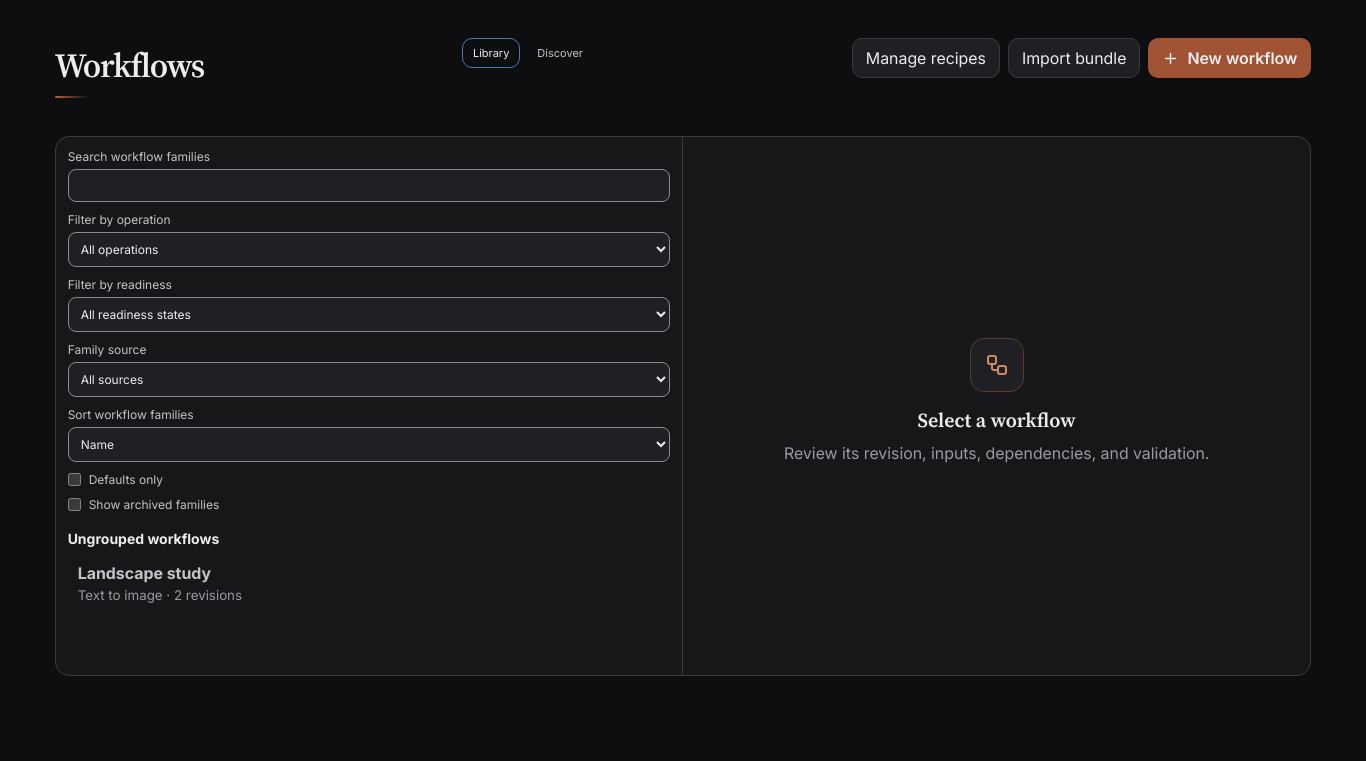
validation belongs to the returned current revision › does not attach an in-flight result to a historical selection
This screenshot has width=1366, height=761.
Click the text "Landscape study". click: [144, 573]
box: [78,563,211,583]
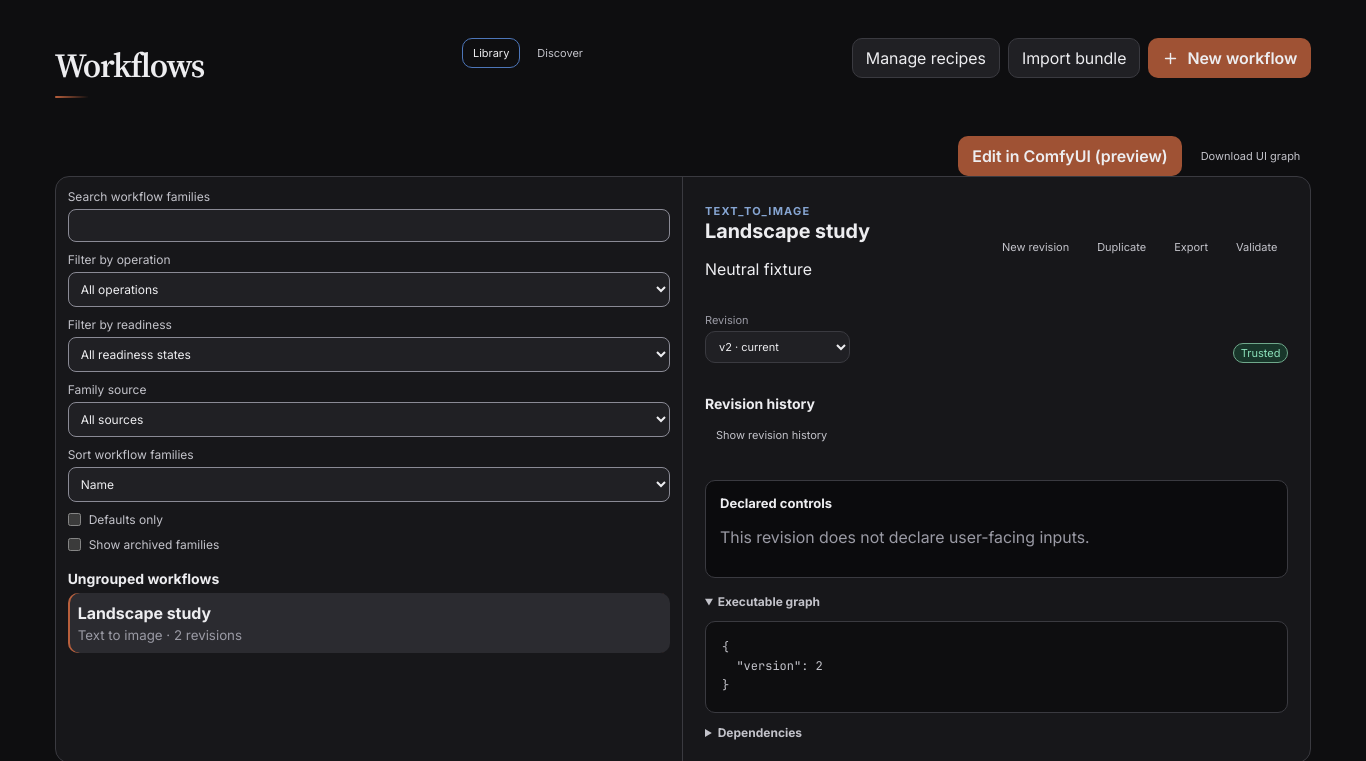
expect the button "New revision" is shown: met, box [991,232,1080,262]
Click the button "Validate". click: [1257, 247]
box: [1225,232,1288,262]
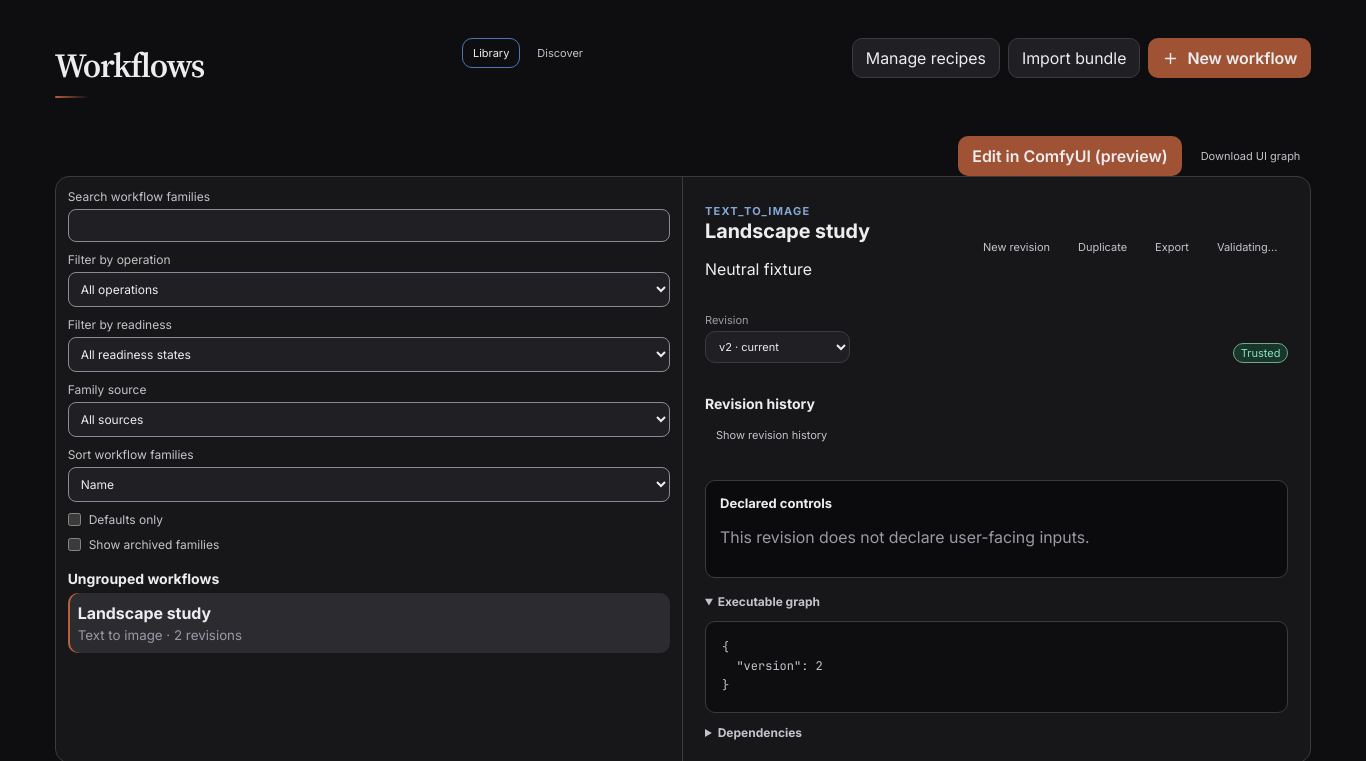
expect the button "Validating..." is disabled: met, box [1206,232,1288,262]
Select "v1" in the dropdown labelled "Revision". click: [778, 347]
box: [705,331,850,363]
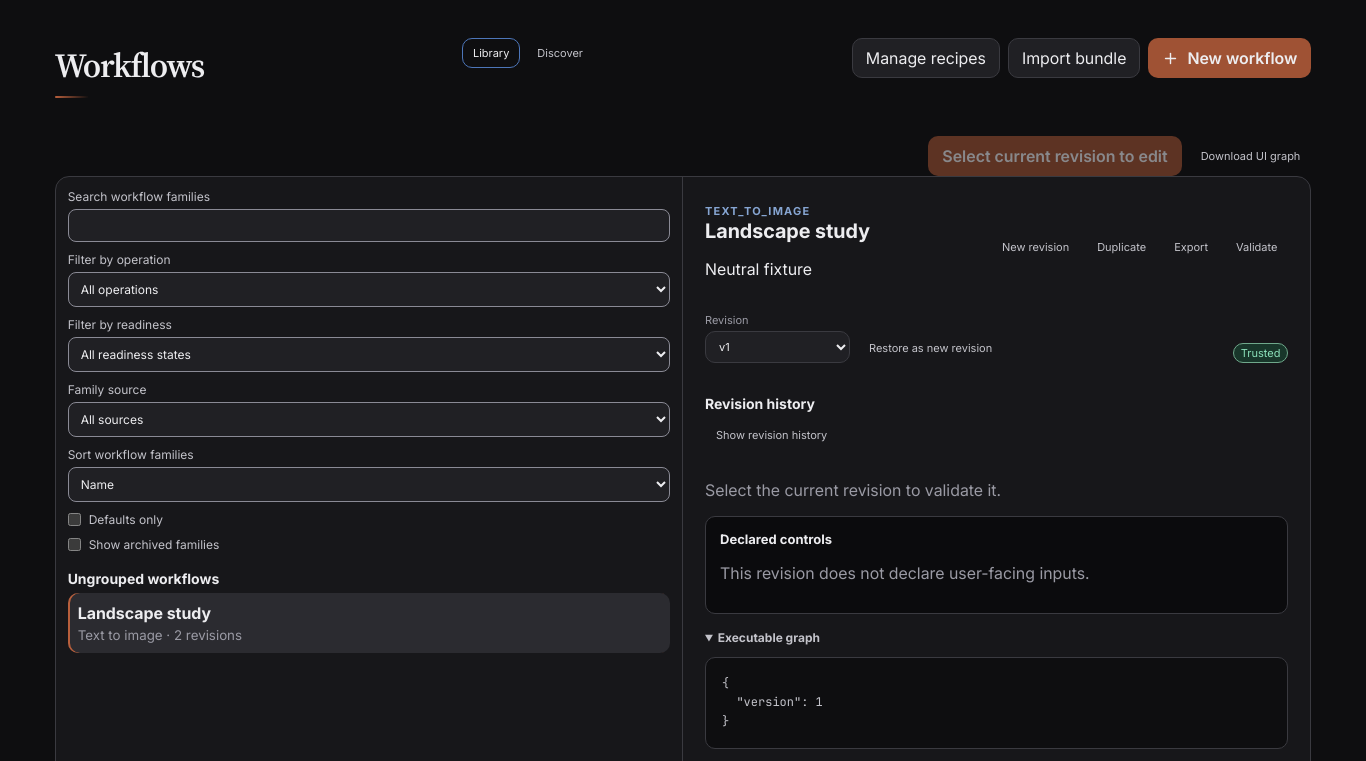
expect the button "Validate" is shown: met, box [1225,232,1288,262]
